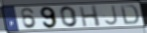0: (59, 6, 80, 28)
6: (20, 7, 37, 29)
9: (39, 6, 60, 29)
D: (119, 4, 140, 26)
H: (78, 5, 103, 28)
J: (104, 5, 120, 27)
